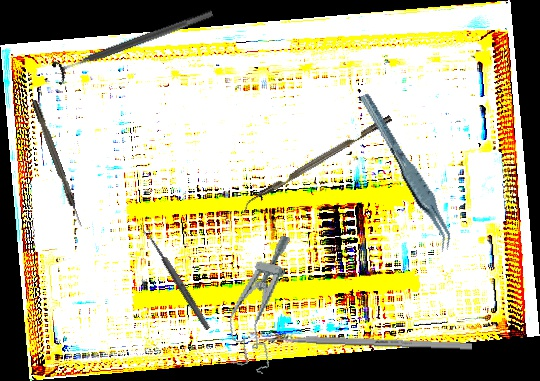Chopper: (238, 115, 397, 215)
Fixation Ring: (50, 0, 218, 87)
Hook Surgical: (31, 98, 84, 229)
Pusher: (246, 334, 473, 350)
Speculum: (218, 228, 301, 375)
Surgical Spoon: (142, 226, 212, 332)
Tissue Forceps: (359, 84, 456, 259)
